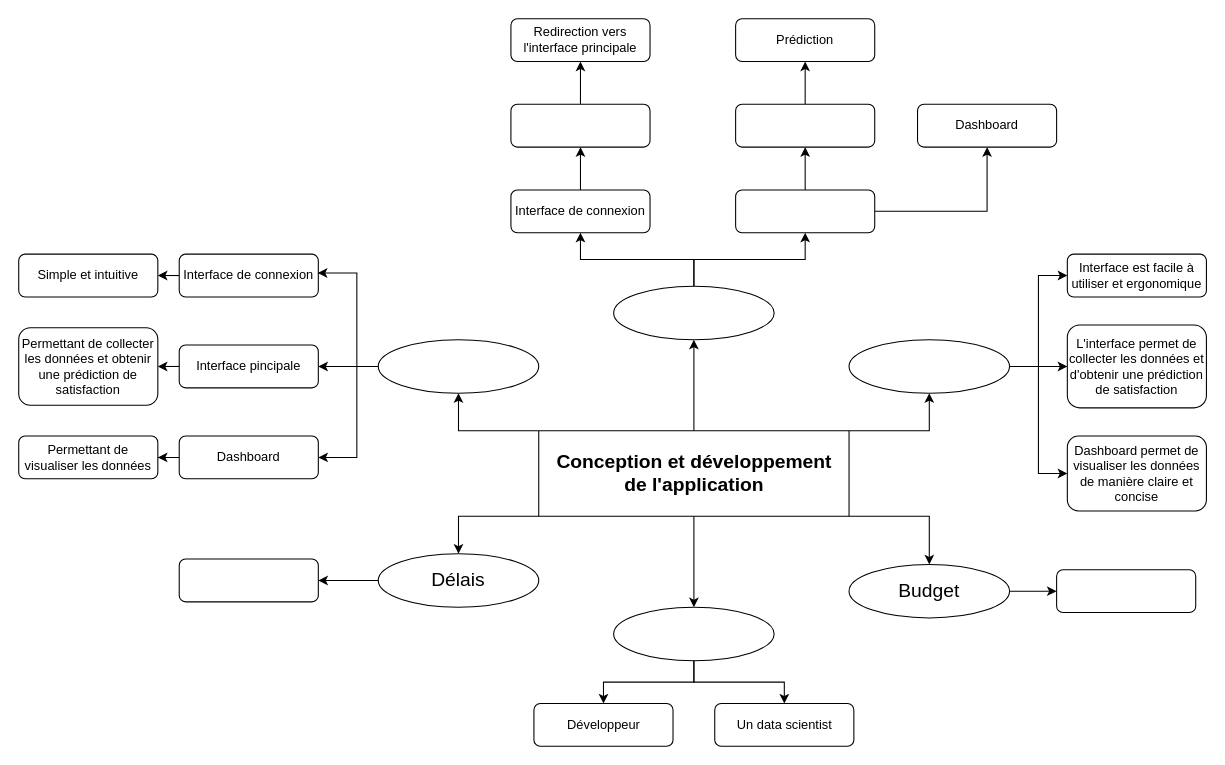
Image size: 1225x765. Some labels were removed from this diagram. Each missing label, with the centre of its shape:
0 euros: point 1126,591
2 jours et demi: point 248,580
Besoins: point 458,366
Critère de succès: point 929,366
Fonctionnalités: point 693,312
Formulaire de connexion: point 580,125
Formulaire utilisateur: point 805,125
interface principale: point 805,211
Pers. ressources: point 693,633
